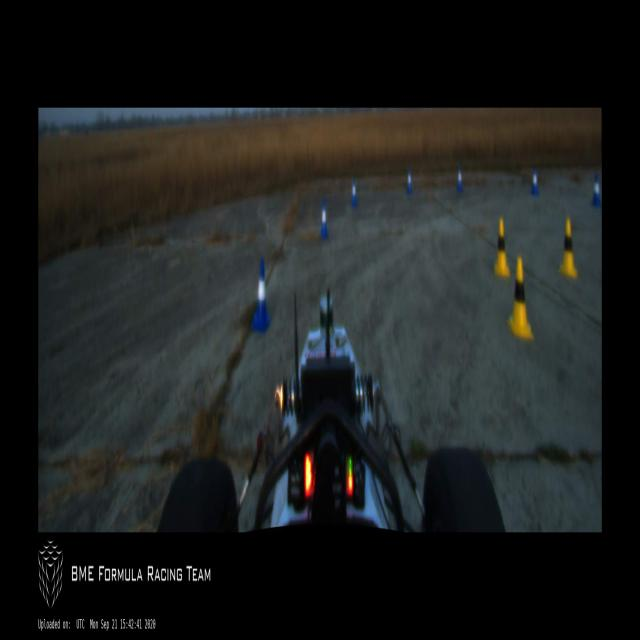blue_cone: (252, 260, 270, 331), (591, 173, 601, 209), (320, 198, 328, 238), (531, 167, 539, 196), (406, 166, 413, 194), (351, 179, 357, 206), (457, 165, 463, 192)
yellow_cone: (508, 258, 534, 338), (560, 220, 578, 278), (495, 220, 511, 275)
